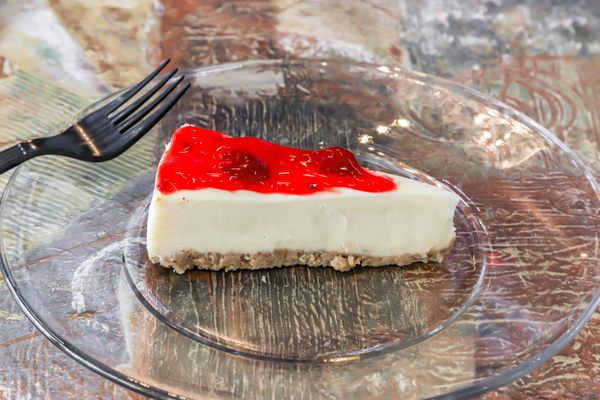burger: (0, 56, 193, 175)
